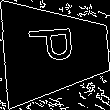P_E: (29, 31, 84, 72)
